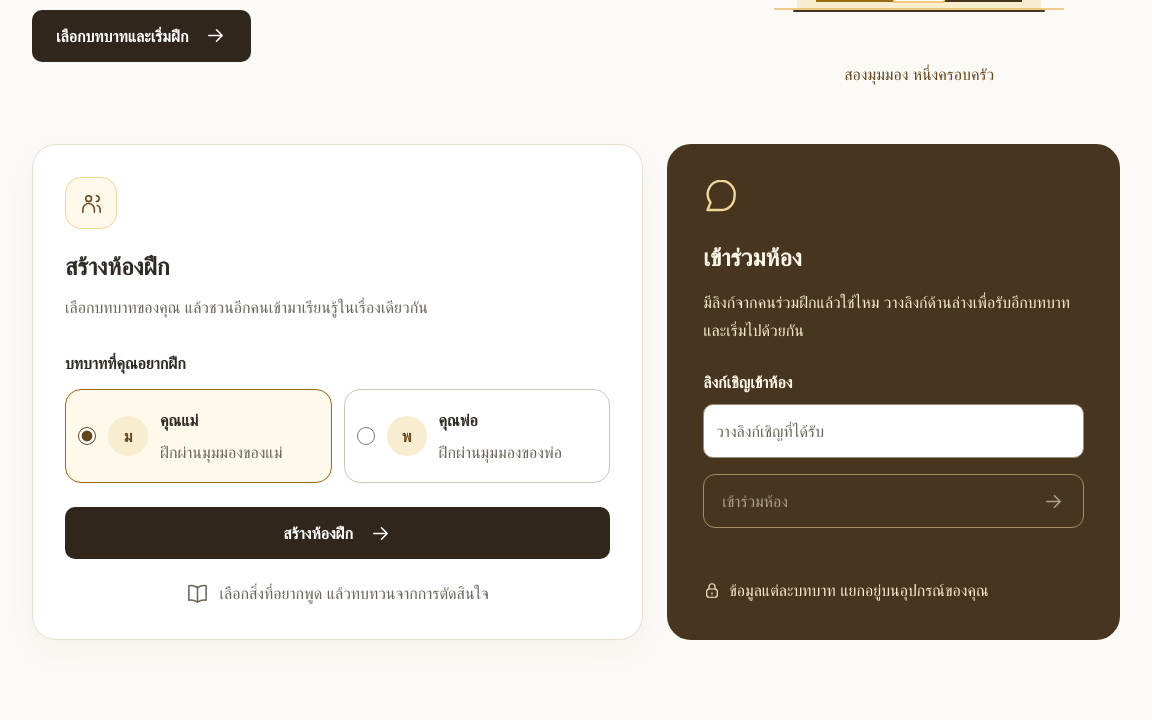
Test: creates a room, shows only its role brief, and preserves the decision ID on retry
(page scrolled)
Step 1. Click the button "สร้างห้องฝึก" → click(338, 533), box left=65, top=507, right=610, bottom=559
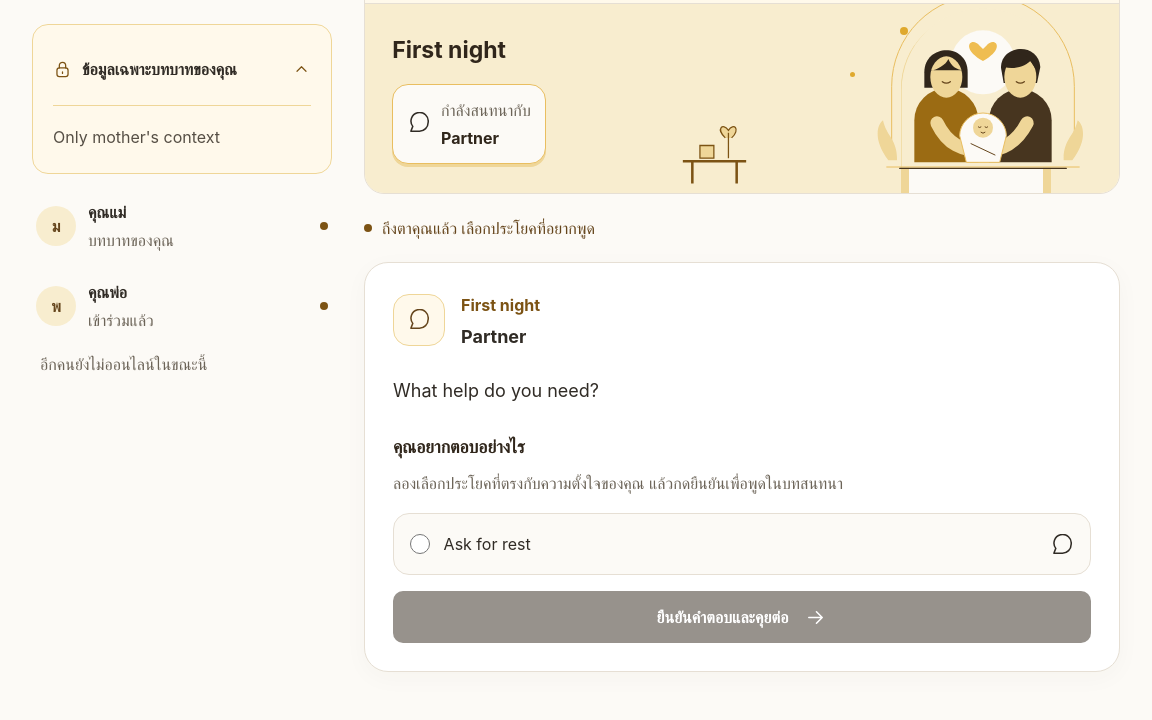
Now the text "Only mother's context" is shown, box left=53, top=105, right=311, bottom=152
Step 2. Click the radio button labelled "Ask for rest" → click(420, 544), box left=410, top=534, right=430, bottom=554
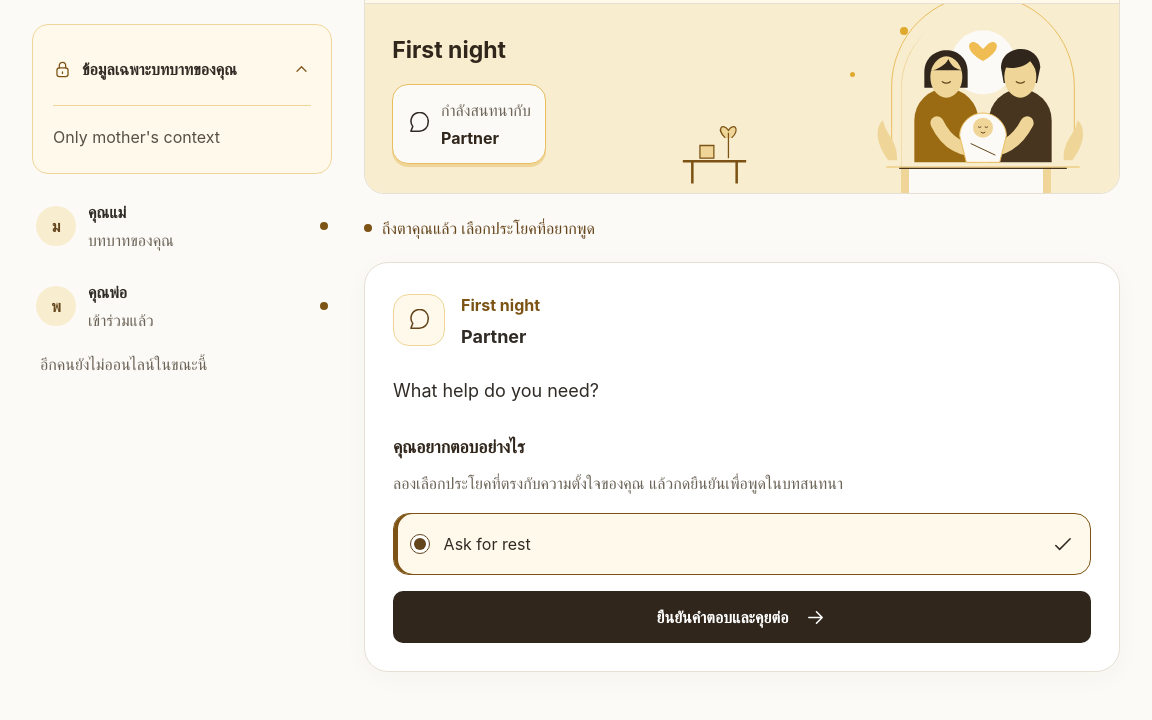
Step 3. Click the button "ยืนยันคำตอบและคุยต่อ" → click(742, 617), box left=393, top=591, right=1091, bottom=643
(page scrolled)
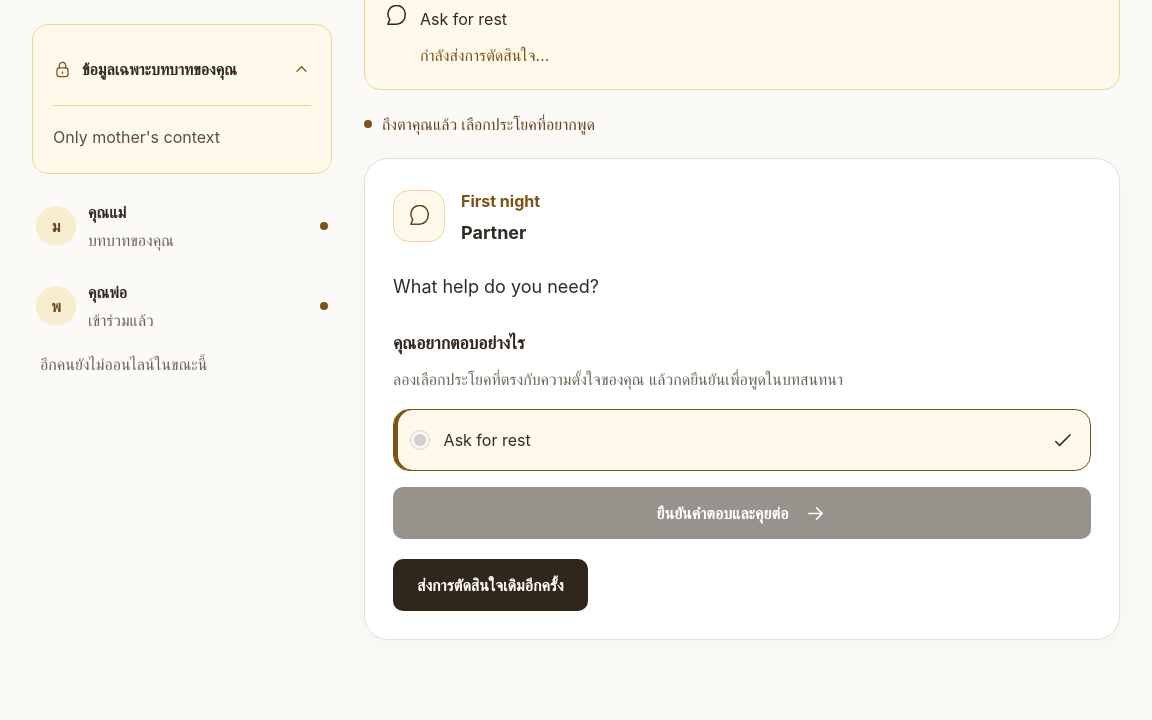
Step 4. Click the button "ส่งการตัดสินใจเดิมอีกครั้ง" → click(490, 585), box left=393, top=559, right=588, bottom=611
(page scrolled)
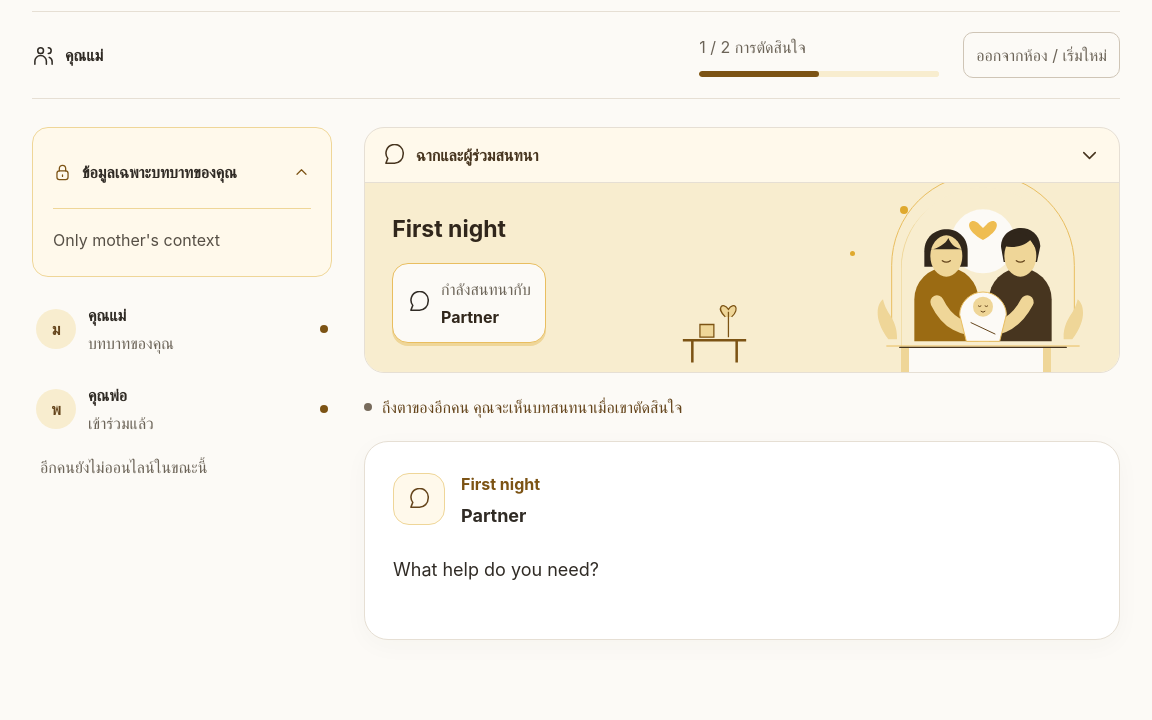
Now the text "ถึงตาของอีกคน คุณจะเห็นบทสนทนาเมื่อเขาตัดสินใจ" is shown, box left=364, top=397, right=682, bottom=417
